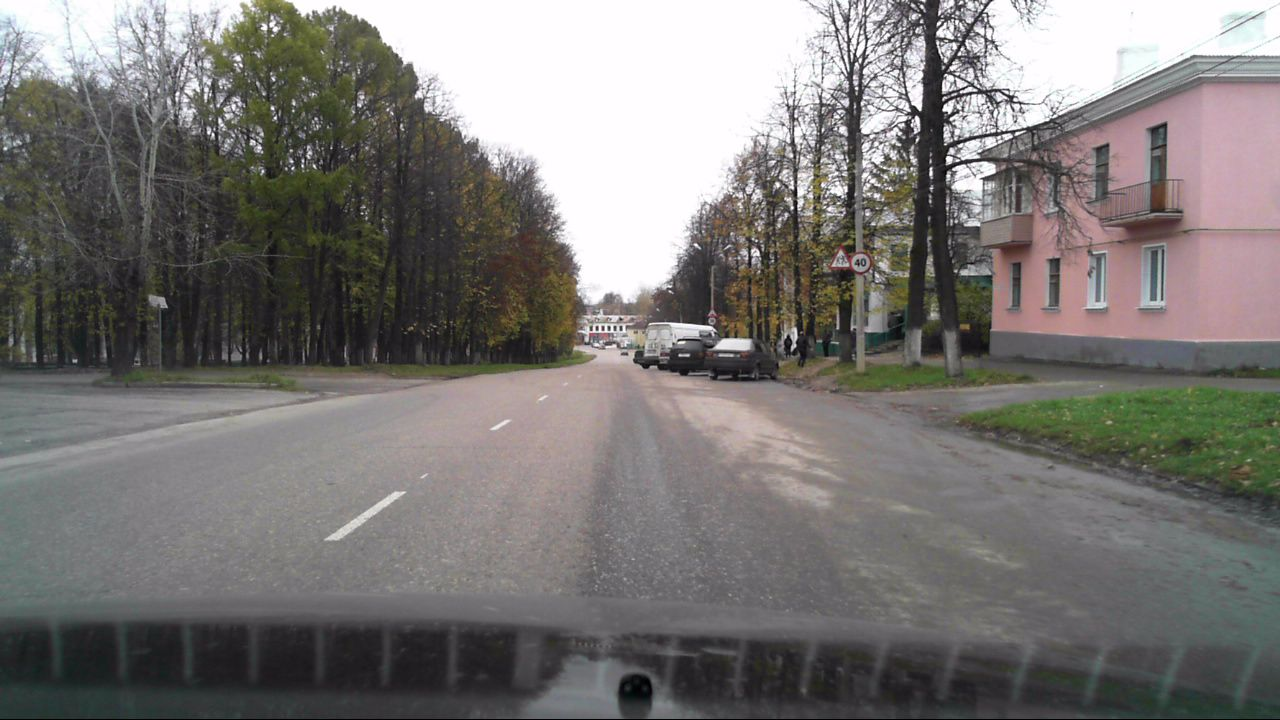speed_warning_40: (850, 252, 871, 273)
